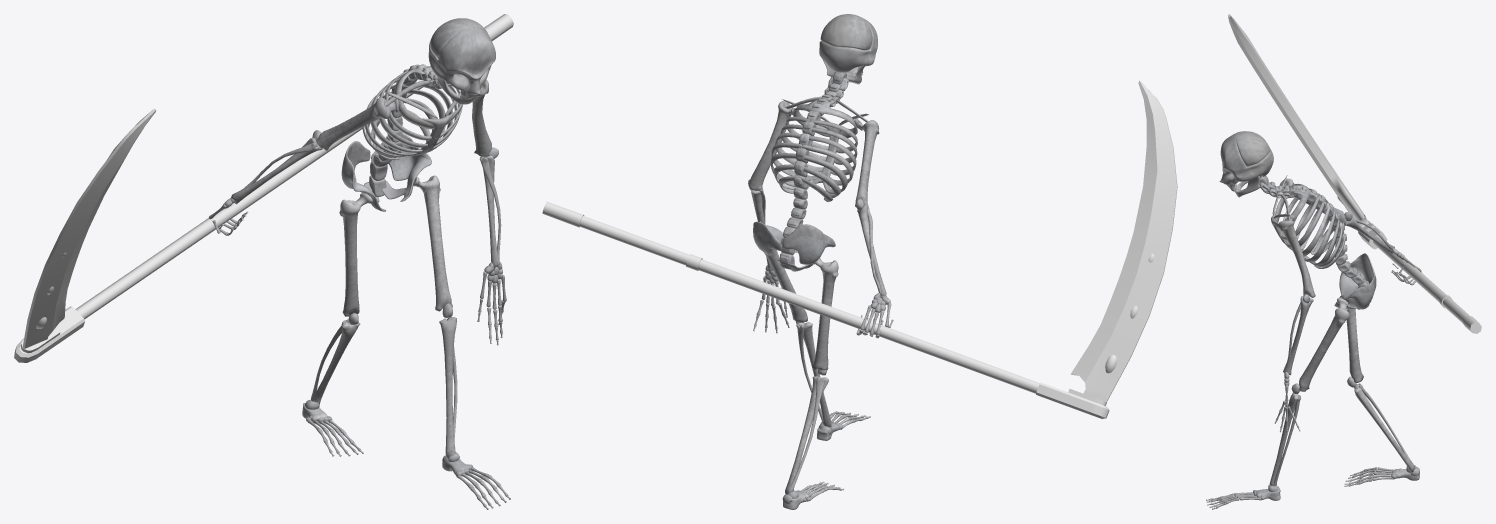
Rendered from skeleton Scythe Pose.fbx.
3 renders of one model, left to right at view 1: azimuth 30°, elevation 25°; view 2: azimuth 150°, elevation 25°; view 3: azimuth 270°, elevation 25°, orthographic. The views are drawn at different scales.
Parts seen in each view (by area): view 1: Cube.002, Cylinder.003; view 2: Cube.002, Cylinder.003; view 3: Cube.002, Cylinder.003.
Boxes of the visible parts, box(x1,y1,x2,y2) form: Cube.002: box(208, 18, 510, 509); Cylinder.003: box(14, 14, 513, 362); Cube.002: box(748, 14, 893, 509); Cylinder.003: box(542, 80, 1177, 419); Cube.002: box(1206, 131, 1421, 509); Cylinder.003: box(1228, 14, 1481, 333).
Bounding box in the file's own units: 227 × 176 × 120.
